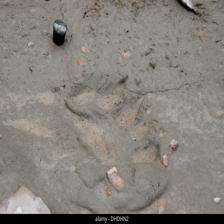bear: (53, 74, 169, 195)
